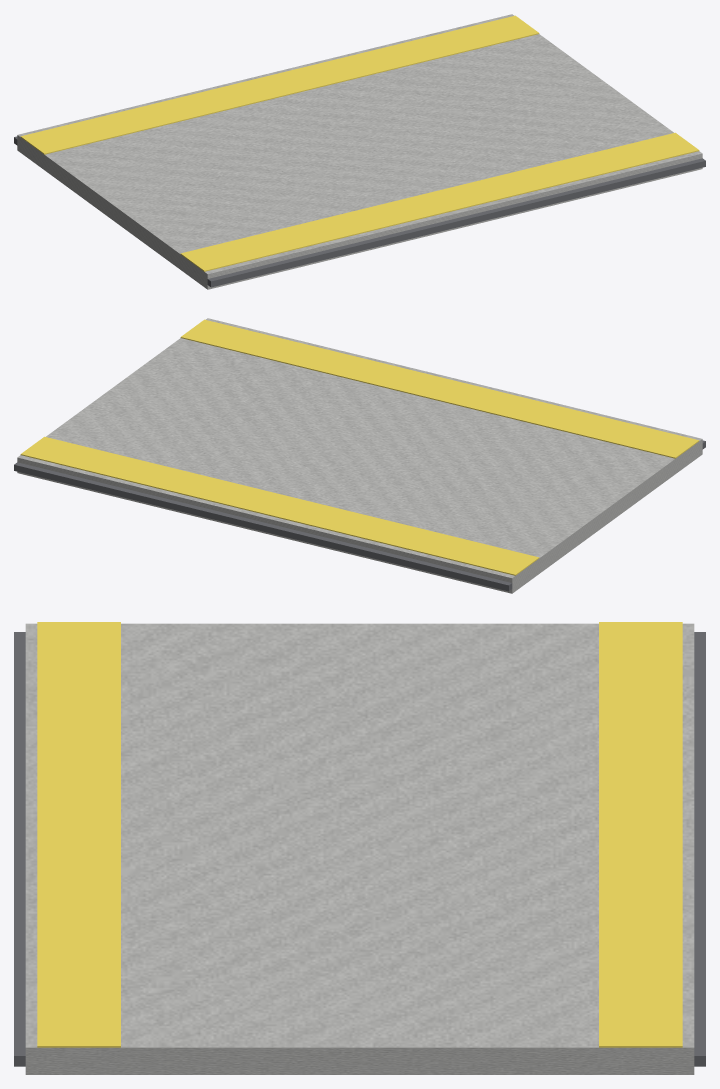
Rendered from bus-station-and-city-transit-island-platform-section-8f2ff396__34204.glb.
The picture shows the model from 3 angles, top to bottom: view 1: azimuth 30°, elevation 25°; view 2: azimuth 150°, elevation 25°; view 3: azimuth 270°, elevation 25°; orthographic projection. The views are drawn at different scales.
Parts seen in each view (by area): view 1: island-platform-section-concrete, island-platform-section-canary, island-platform-section-charcoal; view 2: island-platform-section-concrete, island-platform-section-canary, island-platform-section-charcoal; view 3: island-platform-section-concrete, island-platform-section-canary, island-platform-section-charcoal.
Part boxes in pixels (left/top/right/bottom): island-platform-section-concrete: left=17, top=14, right=702, bottom=289; island-platform-section-canary: left=20, top=15, right=699, bottom=271; island-platform-section-charcoal: left=14, top=136, right=705, bottom=287; island-platform-section-concrete: left=17, top=318, right=702, bottom=593; island-platform-section-canary: left=20, top=319, right=699, bottom=575; island-platform-section-charcoal: left=14, top=440, right=705, bottom=591; island-platform-section-concrete: left=25, top=623, right=694, bottom=1074; island-platform-section-canary: left=37, top=622, right=682, bottom=1047; island-platform-section-charcoal: left=14, top=632, right=705, bottom=1066.
Bounding box in the file's own units: 6 × 0.192 × 4.14.
3 materials, 1 textured.
